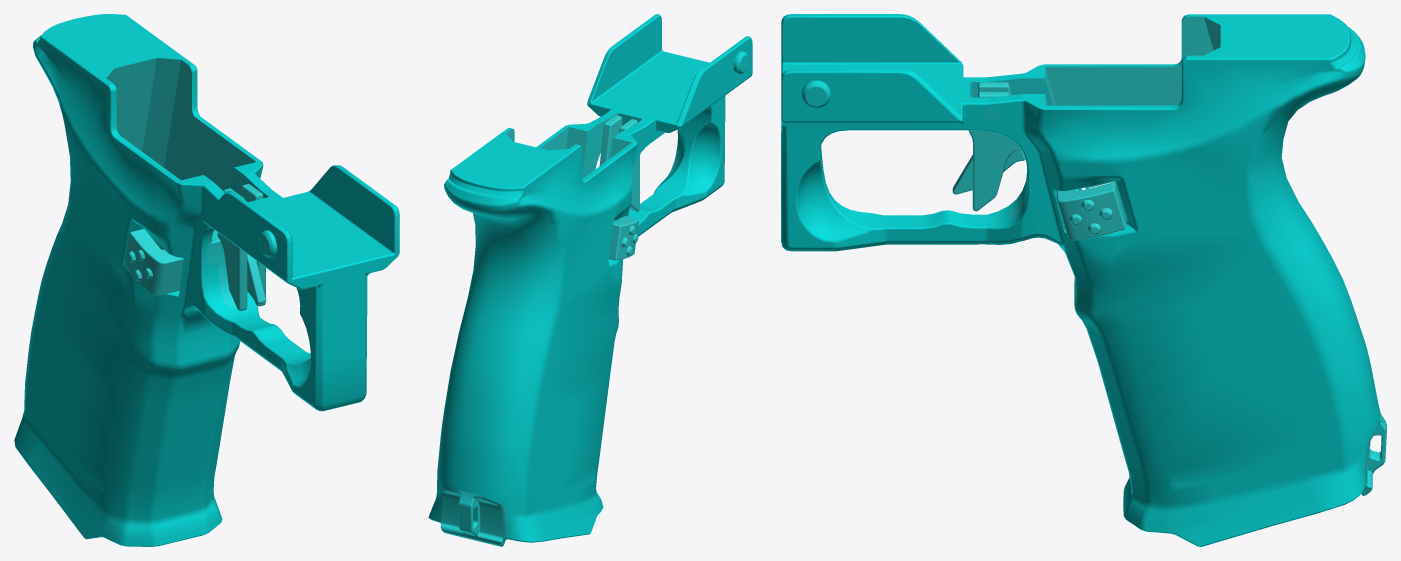
File: Stock_Pistol_1.glb
The picture shows the model from 3 angles, left to right: view 1: azimuth 30°, elevation 25°; view 2: azimuth 150°, elevation 25°; view 3: azimuth 270°, elevation 25°; orthographic projection. The views are drawn at different scales.
Visible parts, largest first — view 1: Stock_Pistol_1_1.001; view 2: Stock_Pistol_1_1.001; view 3: Stock_Pistol_1_1.001.
Part boxes in pixels (box(x1,y1,x2,y2)): Stock_Pistol_1_1.001: box(14, 14, 399, 546); Stock_Pistol_1_1.001: box(428, 14, 752, 546); Stock_Pistol_1_1.001: box(781, 14, 1386, 546).
Size of the model in its own units: 0.0358 by 0.1229 by 0.1407.
